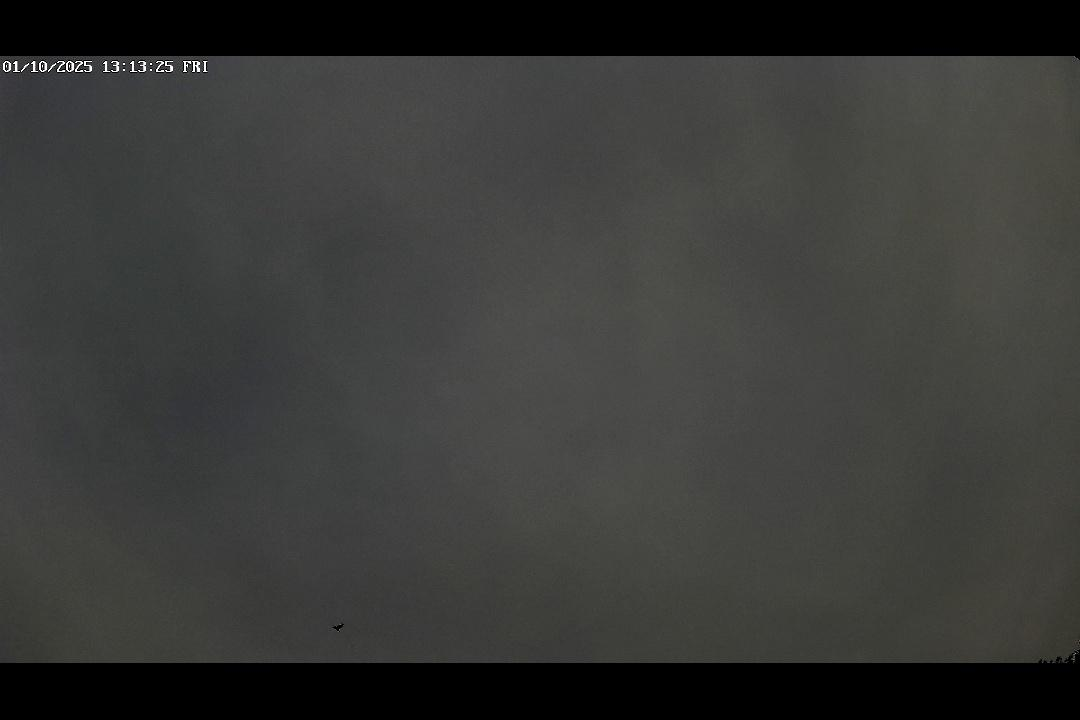WildLife: (314, 619, 360, 636)
